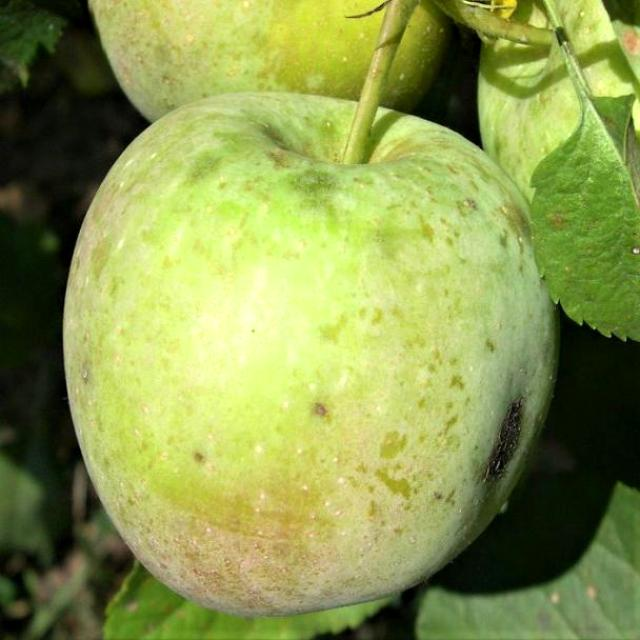BLOTCH: (47, 72, 576, 632)
